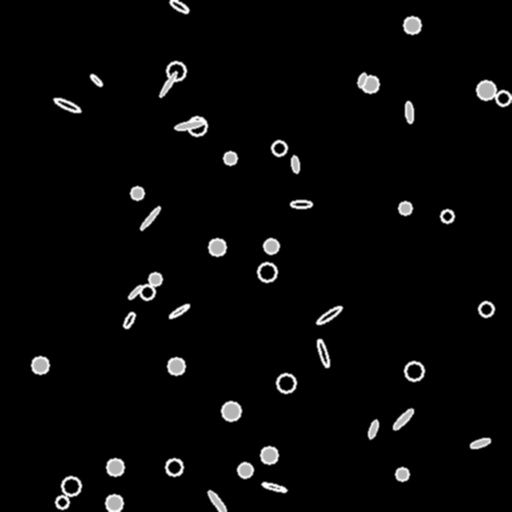pseudomonas: (315, 304, 343, 326), (205, 488, 229, 512), (391, 407, 415, 431), (52, 96, 82, 114), (139, 206, 161, 230), (158, 71, 178, 97), (316, 339, 330, 367), (174, 119, 204, 131), (168, 303, 190, 319), (262, 481, 286, 493), (169, 0, 189, 14), (469, 437, 491, 449), (122, 311, 136, 329), (367, 419, 379, 439), (89, 73, 103, 87), (128, 285, 142, 299), (405, 101, 413, 123), (357, 72, 367, 88), (291, 156, 299, 172), (291, 201, 311, 207)
synechocystis: (277, 374, 295, 392), (167, 62, 185, 80), (188, 117, 206, 135), (62, 477, 80, 495), (405, 362, 423, 380), (477, 81, 495, 99), (222, 402, 240, 420), (258, 263, 276, 281), (362, 76, 378, 92), (32, 357, 48, 373), (107, 459, 123, 475), (106, 495, 122, 511), (261, 447, 277, 463), (404, 17, 420, 33), (209, 239, 225, 255), (166, 459, 182, 475), (168, 358, 184, 374), (479, 302, 493, 316), (140, 285, 154, 299), (238, 463, 252, 477), (264, 239, 278, 253), (272, 141, 286, 155), (496, 91, 510, 105), (224, 152, 236, 164), (441, 210, 453, 222), (399, 202, 411, 214), (131, 187, 143, 199), (149, 273, 161, 285), (56, 496, 68, 508), (396, 468, 408, 480)
